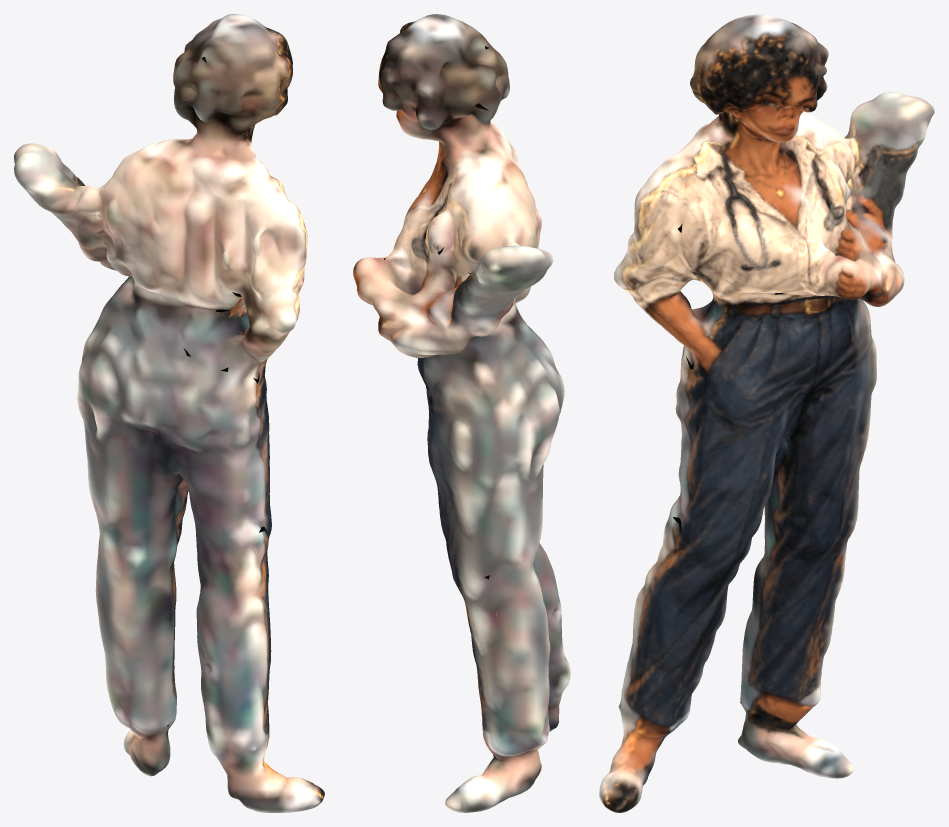
The model's file is source-10.glb.
The picture shows the model from 3 angles, left to right: view 1: azimuth 30°, elevation 25°; view 2: azimuth 150°, elevation 25°; view 3: azimuth 270°, elevation 25°; orthographic projection. The views are drawn at different scales.
Parts seen in each view (by area): view 1: source-10; view 2: source-10; view 3: source-10.
Part boxes in pixels (x1,y1,x2,y2): source-10: (14, 14, 324, 812); source-10: (353, 14, 570, 812); source-10: (599, 14, 934, 812).
Size of the model in its own units: 0.5923 by 2 by 0.7697.
1 material, 1 textured.
